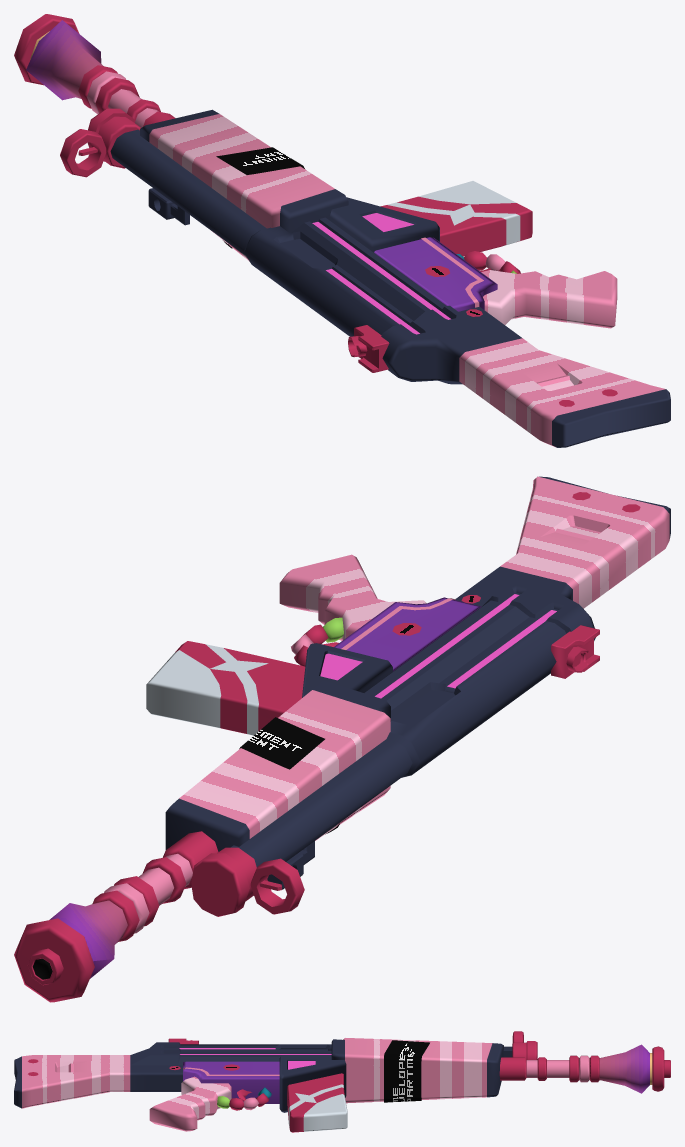
Rendered from momoi.glb.
3 renders of one model, top to bottom at view 1: azimuth 30°, elevation 25°; view 2: azimuth 150°, elevation 25°; view 3: azimuth 270°, elevation 25°, orthographic. The views are drawn at different scales.
Parts seen in each view (by area): view 1: Momoi_Original_Weapon; view 2: Momoi_Original_Weapon; view 3: Momoi_Original_Weapon.
Boxes of the visible parts, x1,y1,x2,y2 form: Momoi_Original_Weapon: [14, 14, 670, 447]; Momoi_Original_Weapon: [14, 476, 670, 1002]; Momoi_Original_Weapon: [14, 1031, 670, 1132].
Bounding box in the file's own units: 0.1653 × 0.0458 × 0.5341.
1 material, 1 textured.
